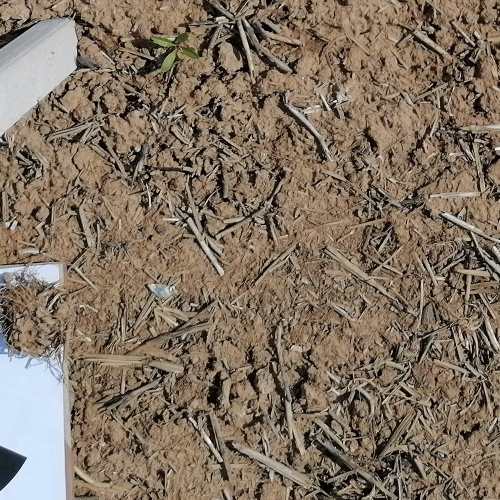beet: (150, 31, 200, 71)
